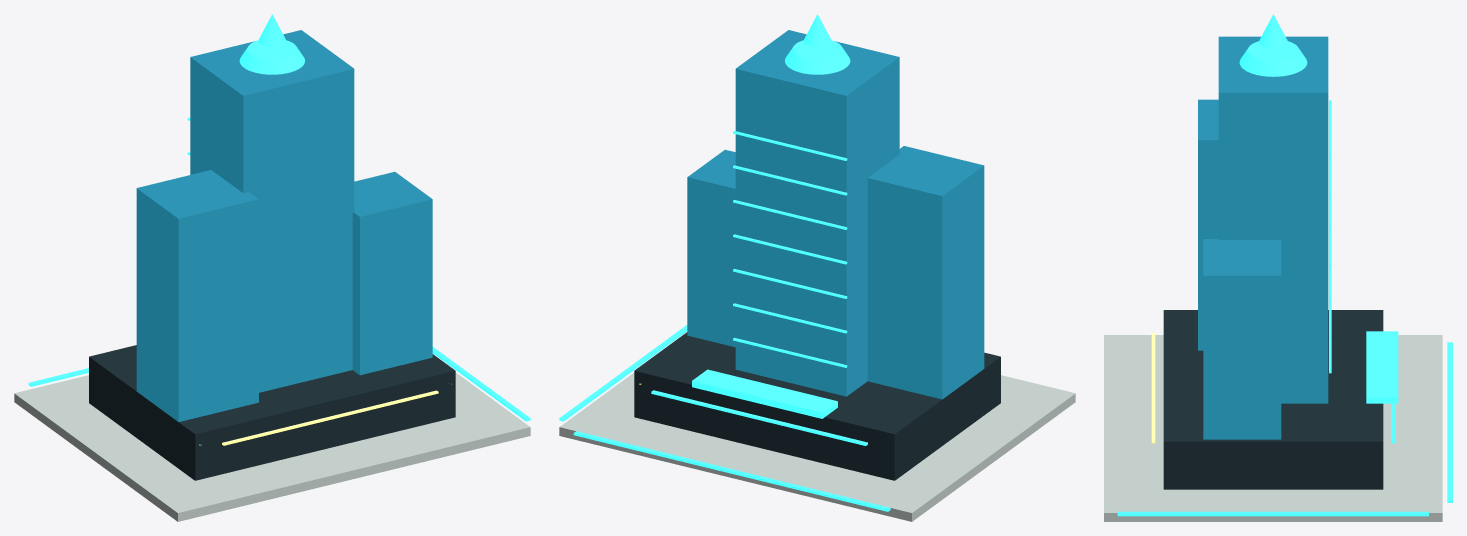
File: hq-command-tower.glb
3 renders of one model, left to right at view 1: azimuth 30°, elevation 25°; view 2: azimuth 150°, elevation 25°; view 3: azimuth 270°, elevation 25°, orthographic. The views are drawn at different scales.
Visible parts, largest first — view 1: rj-hq-command-tower-main-glass-tower, rj-hq-command-tower-west-glass-wing, rj-hq-command-tower-podium, rj-hq-command-tower-executive-plaza, rj-hq-command-tower-east-glass-wing, rj-hq-command-tower-roof-beacon, rj-hq-command-tower-command-deck-rear-rail, rj-hq-command-tower-right-plaza-data-rail; view 2: rj-hq-command-tower-main-glass-tower, rj-hq-command-tower-west-glass-wing, rj-hq-command-tower-podium, rj-hq-command-tower-executive-plaza, rj-hq-command-tower-east-glass-wing, rj-hq-command-tower-entrance-canopy, rj-hq-command-tower-front-plaza-data-rail, rj-hq-command-tower-roof-beacon, rj-hq-command-tower-command-deck-front-rail, rj-hq-command-tower-right-plaza-data-rail; view 3: rj-hq-command-tower-main-glass-tower, rj-hq-command-tower-executive-plaza, rj-hq-command-tower-podium, rj-hq-command-tower-east-glass-wing, rj-hq-command-tower-west-glass-wing, rj-hq-command-tower-entrance-canopy, rj-hq-command-tower-right-plaza-data-rail, rj-hq-command-tower-roof-beacon, rj-hq-command-tower-front-plaza-data-rail, rj-hq-command-tower-antenna-cap, rj-hq-command-tower-command-deck-rear-rail.
Boxes of the visible parts, box(x1,y1,x2,y2) form: rj-hq-command-tower-main-glass-tower: box(190, 30, 354, 392); rj-hq-command-tower-west-glass-wing: box(136, 170, 258, 422); rj-hq-command-tower-podium: box(89, 345, 455, 480); rj-hq-command-tower-executive-plaza: box(14, 372, 530, 521); rj-hq-command-tower-east-glass-wing: box(352, 171, 432, 375); rj-hq-command-tower-roof-beacon: box(239, 40, 304, 74); rj-hq-command-tower-command-deck-rear-rail: box(222, 390, 438, 445); rj-hq-command-tower-right-plaza-data-rail: box(432, 347, 530, 421); rj-hq-command-tower-main-glass-tower: box(735, 30, 899, 396); rj-hq-command-tower-west-glass-wing: box(867, 146, 984, 399); rj-hq-command-tower-podium: box(634, 332, 1000, 480); rj-hq-command-tower-executive-plaza: box(559, 372, 1075, 521); rj-hq-command-tower-east-glass-wing: box(687, 149, 735, 347); rj-hq-command-tower-entrance-canopy: box(692, 369, 837, 418); rj-hq-command-tower-front-plaza-data-rail: box(573, 431, 890, 511); rj-hq-command-tower-roof-beacon: box(785, 40, 850, 74); rj-hq-command-tower-command-deck-front-rail: box(651, 390, 867, 445); rj-hq-command-tower-right-plaza-data-rail: box(559, 325, 687, 421); rj-hq-command-tower-main-glass-tower: box(1218, 36, 1328, 403); rj-hq-command-tower-executive-plaza: box(1104, 335, 1442, 521); rj-hq-command-tower-podium: box(1163, 310, 1383, 489); rj-hq-command-tower-east-glass-wing: box(1203, 239, 1281, 439); rj-hq-command-tower-west-glass-wing: box(1198, 99, 1218, 350); rj-hq-command-tower-entrance-canopy: box(1366, 331, 1398, 403); rj-hq-command-tower-right-plaza-data-rail: box(1117, 511, 1428, 516); rj-hq-command-tower-roof-beacon: box(1239, 41, 1307, 76); rj-hq-command-tower-front-plaza-data-rail: box(1447, 342, 1452, 502); rj-hq-command-tower-antenna-cap: box(1259, 14, 1287, 48); rj-hq-command-tower-command-deck-rear-rail: box(1151, 333, 1155, 443).
Bounding box in the file's own units: 9.38 × 10.1 × 7.62.
